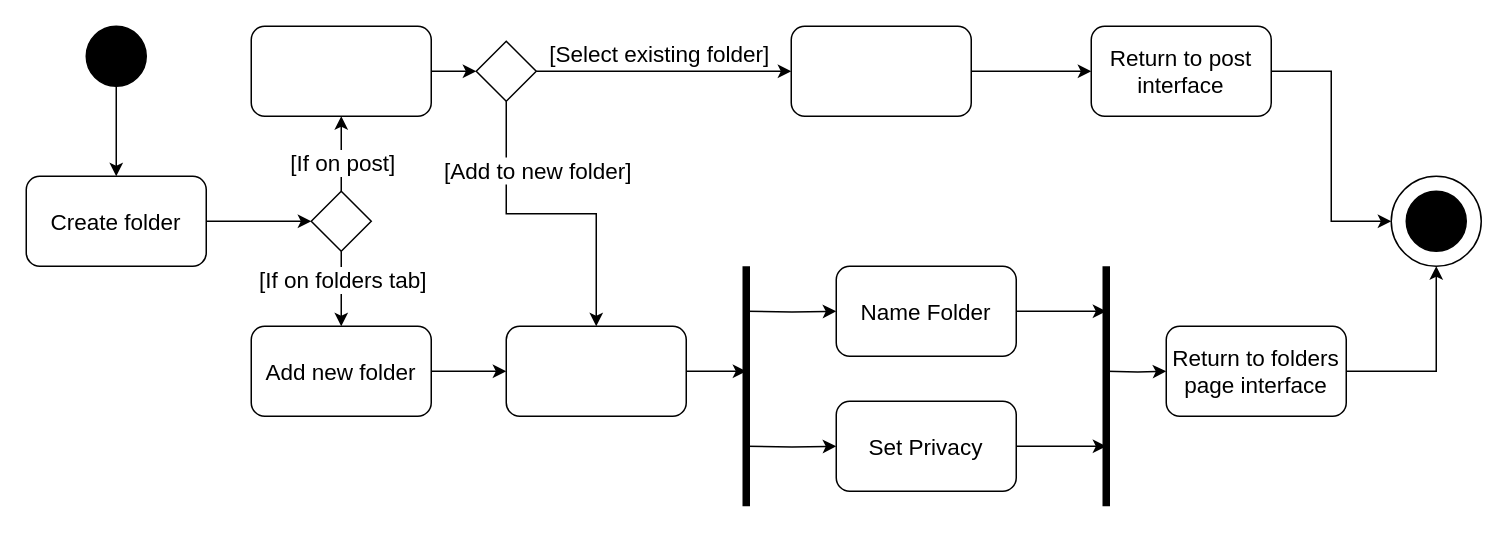
This 1508x537 diagram has some shape labels left out. Here are the shapes that lost their labels. From the top down, the centre of each, then its label:
At pixel 340 70: "Save Post".
At pixel 880 70: "Post added to existing folder".
At pixel 595 370: "Folder Created".
